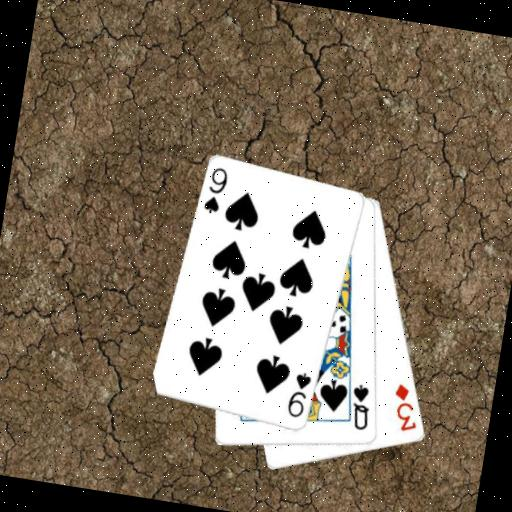3D: (385, 380, 424, 435)
9S: (283, 368, 314, 422), (200, 163, 231, 217)
QS: (344, 380, 376, 433)
